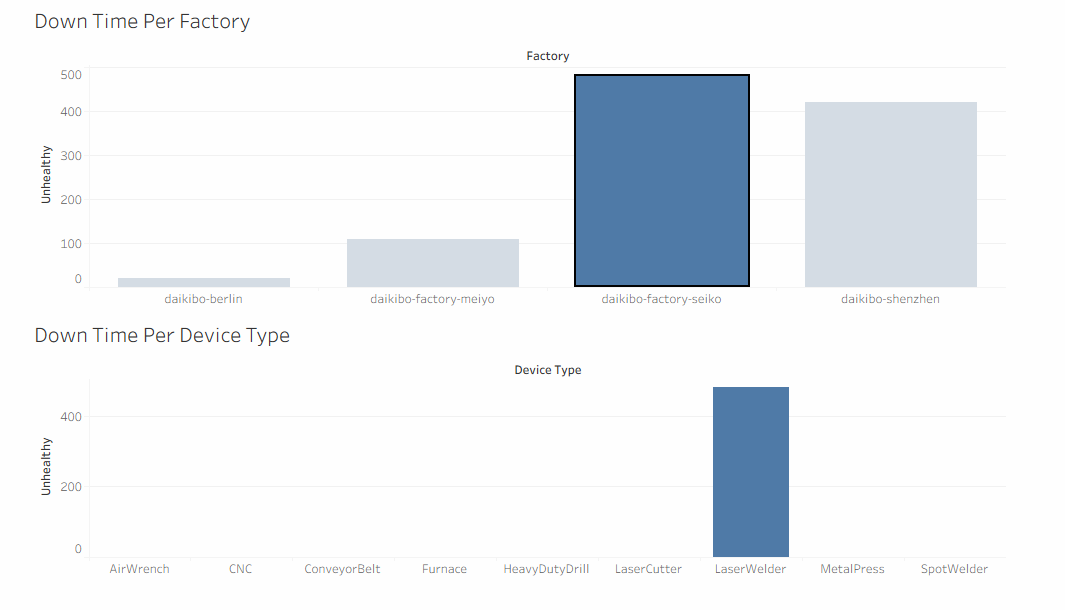

This screenshot's page, from the dashboard's own definition file:
{"tool":"tableau","page":{"name":"Dashboard ","canvas":[1000,600],"ordinal":0},"visuals":[{"type":"worksheet","title":"Down Time Per Factory","mark":"Automatic","rows":["Calculation_0150651970314240"],"cols":["factory"],"box":[8,8,984,313.7]},{"type":"worksheet","title":"Down Time Per Device Type","mark":"Automatic","rows":["Calculation_0150651970314240"],"cols":["deviceType"],"box":[8,321.7,984,270.3]}]}

Visuals, with their boxes on the page's 1000x600 design canvas (x1, y1, x2, y2). These are canvas units, not pixel positions in the 1065x610 screenshot, which may show the page scaled, cropped or inside an application window:
"Down Time Per Factory" worksheet: left=8, top=8, right=992, bottom=322
"Down Time Per Device Type" worksheet: left=8, top=322, right=992, bottom=592
